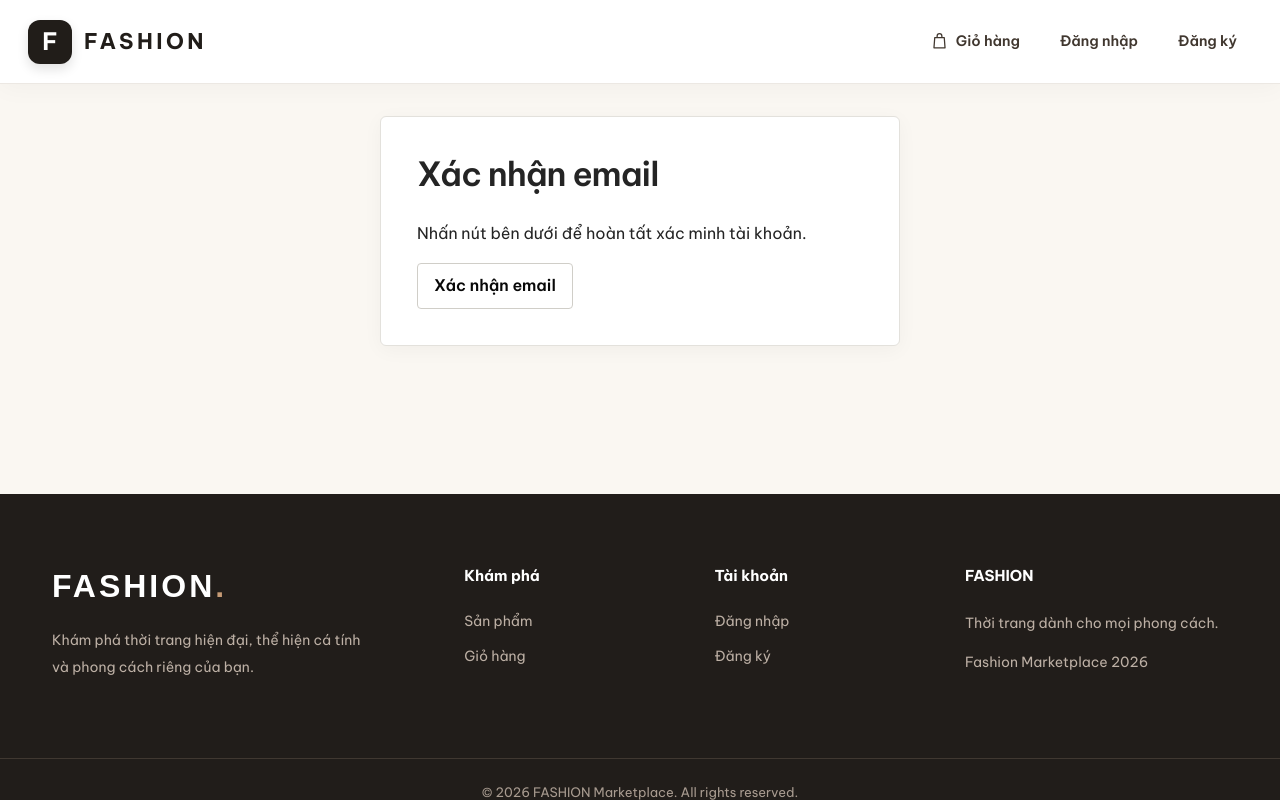
xác minh email bằng token trong fragment qua POST
The width and height of the screenshot is (1280, 800).
Click the button "Xác nhận email".
click(495, 286)  # box [417,264,573,309]
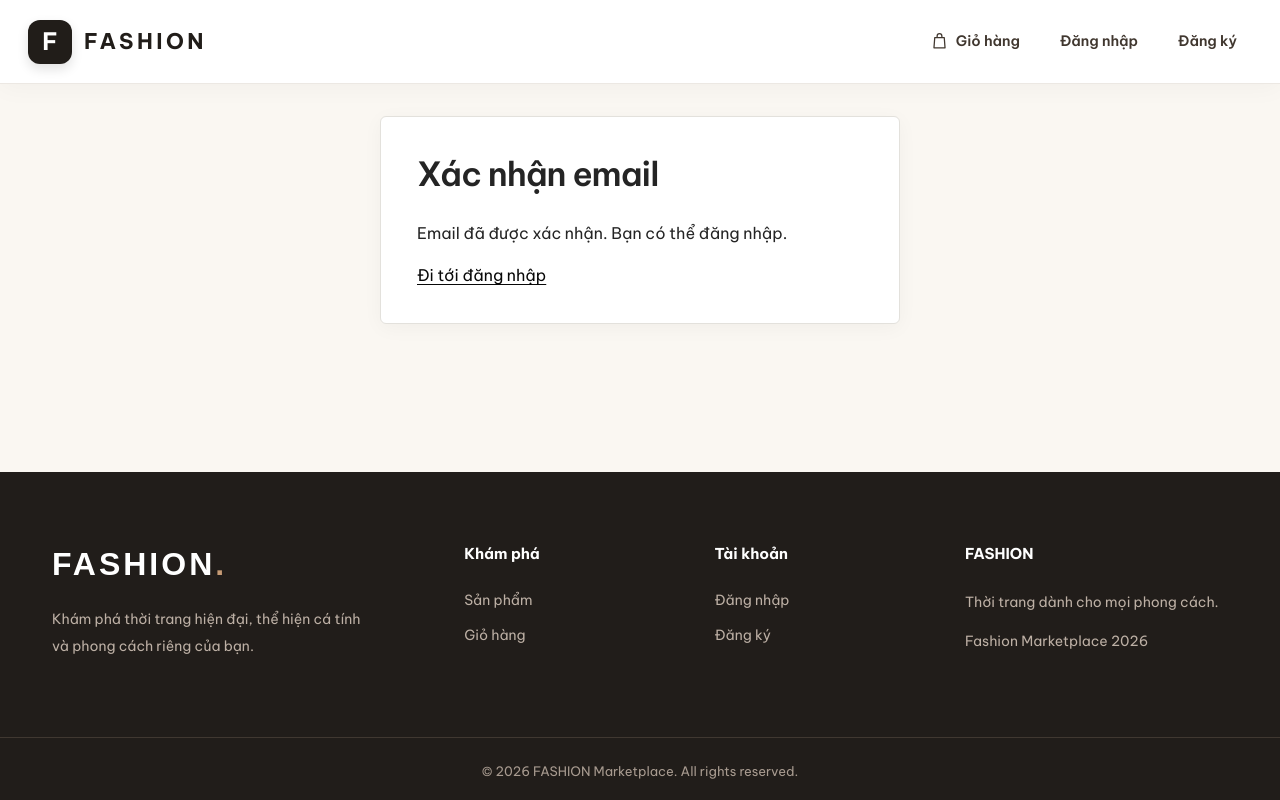
Result: the message "Email đã được xác nhận. Bạn có thể đăng nhập." is shown at [417,223,787,243]
